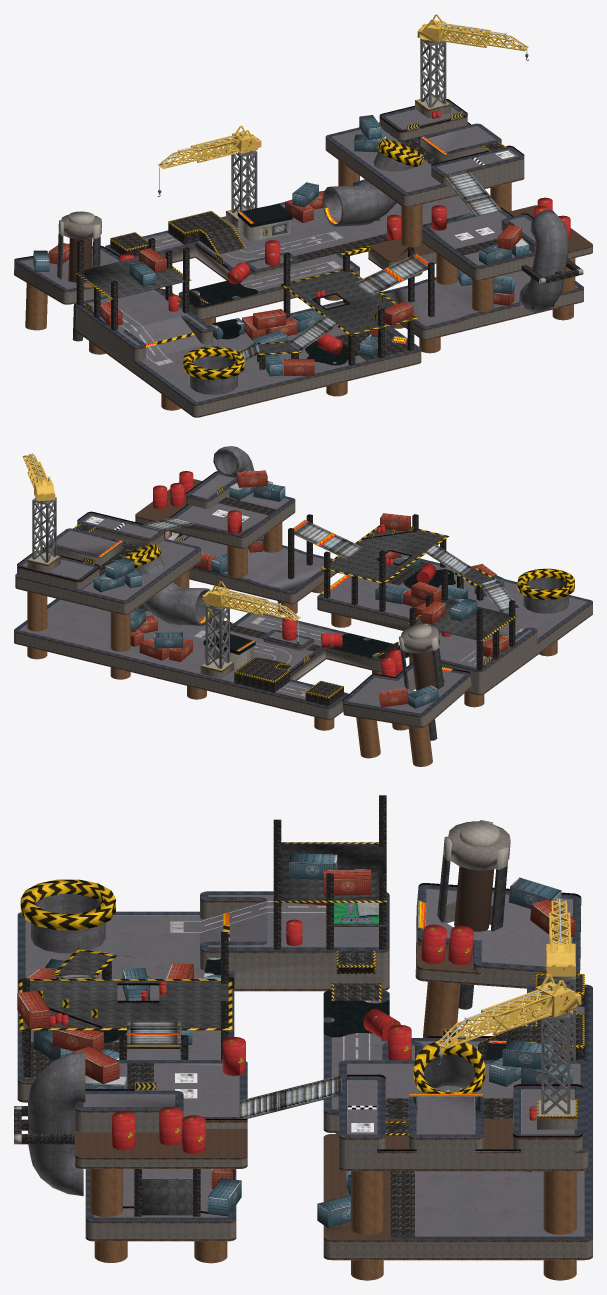
The picture shows the model from 3 angles, top to bottom: view 1: azimuth 30°, elevation 25°; view 2: azimuth 150°, elevation 25°; view 3: azimuth 270°, elevation 25°; orthographic projection. The views are drawn at different scales.
Visible parts, largest first — view 1: Course-SKP-Metal_Aluminum_Anodized.021, Course-SKP-Metal_Aluminum_Anodized.023, Course-SKP-Metal_Aluminum_Anodized.019, Course-SKP-Metal_Aluminum_Anodized.024, Course-SKP-Metal_Aluminum_Anodized.028, Course-SKP-Metal_Aluminum_Anodized.010, Course-SKP-Metal_Aluminum_Anodized.026, Course-SKP-Metal_Aluminum_Anodized.060, Course-SKP-Metal_Aluminum_Anodized, Course-SKP-Metal_Aluminum_Anodized.013, Course-SKP-Metal_Aluminum_Anodized.057, Course-SKP-Metal_Aluminum_Anodized.079 (+15 smaller); view 2: Course-SKP-Metal_Aluminum_Anodized.021, Course-SKP-Metal_Aluminum_Anodized.023, Course-SKP-Metal_Aluminum_Anodized.024, Course-SKP-Metal_Aluminum_Anodized.019, Course-SKP-Metal_Aluminum_Anodized.010, Course-SKP-Metal_Aluminum_Anodized.026, Course-SKP-Metal_Aluminum_Anodized.028, Course-SKP-Metal_Aluminum_Anodized.033, Course-SKP-Metal_Aluminum_Anodized.013, Course-SKP-Metal_Aluminum_Anodized.079, Course-SKP-Metal_Aluminum_Anodized.042, Course-SKP-Metal_Aluminum_Anodized.057 (+15 smaller); view 3: Course-SKP-Metal_Aluminum_Anodized.021, Course-SKP-Metal_Aluminum_Anodized.023, Course-SKP-Metal_Aluminum_Anodized.028, Course-SKP-Metal_Aluminum_Anodized.024, Course-SKP-Metal_Aluminum_Anodized.019, Course-SKP-Metal_Aluminum_Anodized.010, Course-SKP-Metal_Aluminum_Anodized.069, Course-SKP-Metal_Aluminum_Anodized.060, Course-SKP-Metal_Aluminum_Anodized.026, Course-SKP-Metal_Aluminum_Anodized.033, Course-SKP-Metal_Aluminum_Anodized.057, Course-SKP-Metal_Aluminum_Anodized (+17 smaller).
Boxes of the visible parts, x1=… form: Course-SKP-Metal_Aluminum_Anodized.021: x1=20, y1=107, x2=578, y2=401; Course-SKP-Metal_Aluminum_Anodized.023: x1=14, y1=102, x2=592, y2=416; Course-SKP-Metal_Aluminum_Anodized.019: x1=76, y1=128, x2=580, y2=369; Course-SKP-Metal_Aluminum_Anodized.024: x1=14, y1=100, x2=583, y2=404; Course-SKP-Metal_Aluminum_Anodized.028: x1=57, y1=231, x2=413, y2=353; Course-SKP-Metal_Aluminum_Anodized.010: x1=25, y1=160, x2=575, y2=410; Course-SKP-Metal_Aluminum_Anodized.026: x1=14, y1=100, x2=592, y2=417; Course-SKP-Metal_Aluminum_Anodized.060: x1=190, y1=210, x2=568, y2=394; Course-SKP-Metal_Aluminum_Anodized: x1=157, y1=14, x2=528, y2=169; Course-SKP-Metal_Aluminum_Anodized.013: x1=239, y1=169, x2=501, y2=360; Course-SKP-Metal_Aluminum_Anodized.057: x1=75, y1=96, x2=505, y2=379; Course-SKP-Metal_Aluminum_Anodized.079: x1=157, y1=38, x2=528, y2=212; Course-SKP-Metal_Aluminum_Anodized.021: x1=19, y1=474, x2=586, y2=713; Course-SKP-Metal_Aluminum_Anodized.023: x1=14, y1=488, x2=592, y2=726; Course-SKP-Metal_Aluminum_Anodized.024: x1=14, y1=472, x2=592, y2=715; Course-SKP-Metal_Aluminum_Anodized.019: x1=75, y1=481, x2=515, y2=705; Course-SKP-Metal_Aluminum_Anodized.010: x1=27, y1=522, x2=557, y2=766; Course-SKP-Metal_Aluminum_Anodized.026: x1=14, y1=481, x2=592, y2=727; Course-SKP-Metal_Aluminum_Anodized.028: x1=328, y1=528, x2=512, y2=740; Course-SKP-Metal_Aluminum_Anodized.033: x1=153, y1=471, x2=451, y2=676; Course-SKP-Metal_Aluminum_Anodized.013: x1=141, y1=517, x2=519, y2=612; Course-SKP-Metal_Aluminum_Anodized.079: x1=26, y1=461, x2=300, y2=668; Course-SKP-Metal_Aluminum_Anodized.042: x1=130, y1=470, x2=508, y2=706; Course-SKP-Metal_Aluminum_Anodized.057: x1=27, y1=523, x2=574, y2=698; Course-SKP-Metal_Aluminum_Anodized.021: x1=26, y1=888, x2=584, y2=1236; Course-SKP-Metal_Aluminum_Anodized.023: x1=17, y1=822, x2=592, y2=1257; Course-SKP-Metal_Aluminum_Anodized.028: x1=23, y1=843, x2=507, y2=1215; Course-SKP-Metal_Aluminum_Anodized.024: x1=17, y1=884, x2=592, y2=1239; Course-SKP-Metal_Aluminum_Anodized.019: x1=14, y1=795, x2=584, y2=1236; Course-SKP-Metal_Aluminum_Anodized.010: x1=90, y1=981, x2=576, y2=1280; Course-SKP-Metal_Aluminum_Anodized.069: x1=74, y1=866, x2=513, y2=1239; Course-SKP-Metal_Aluminum_Anodized.060: x1=28, y1=894, x2=105, y2=1196; Course-SKP-Metal_Aluminum_Anodized.026: x1=17, y1=893, x2=592, y2=1260; Course-SKP-Metal_Aluminum_Anodized.033: x1=50, y1=919, x2=536, y2=1154; Course-SKP-Metal_Aluminum_Anodized.057: x1=18, y1=842, x2=584, y2=1135; Course-SKP-Metal_Aluminum_Anodized: x1=435, y1=898, x2=581, y2=1049.
Size of what is drawn, in the model's own units: 86724 by 37695 by 59864.
Materials: 36 (36 with a texture image).
